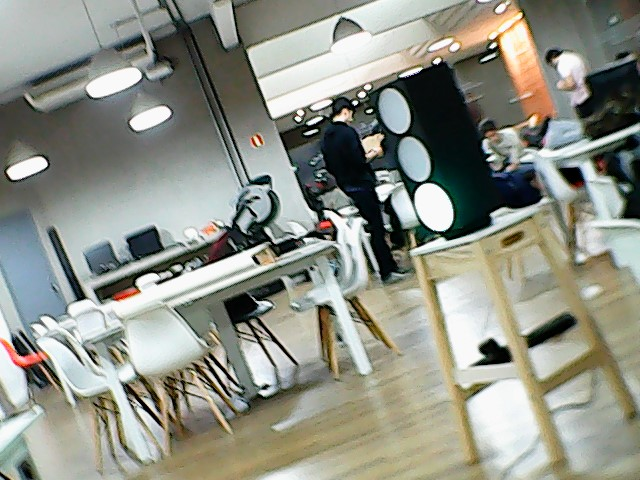verde: (372, 58, 508, 236)
